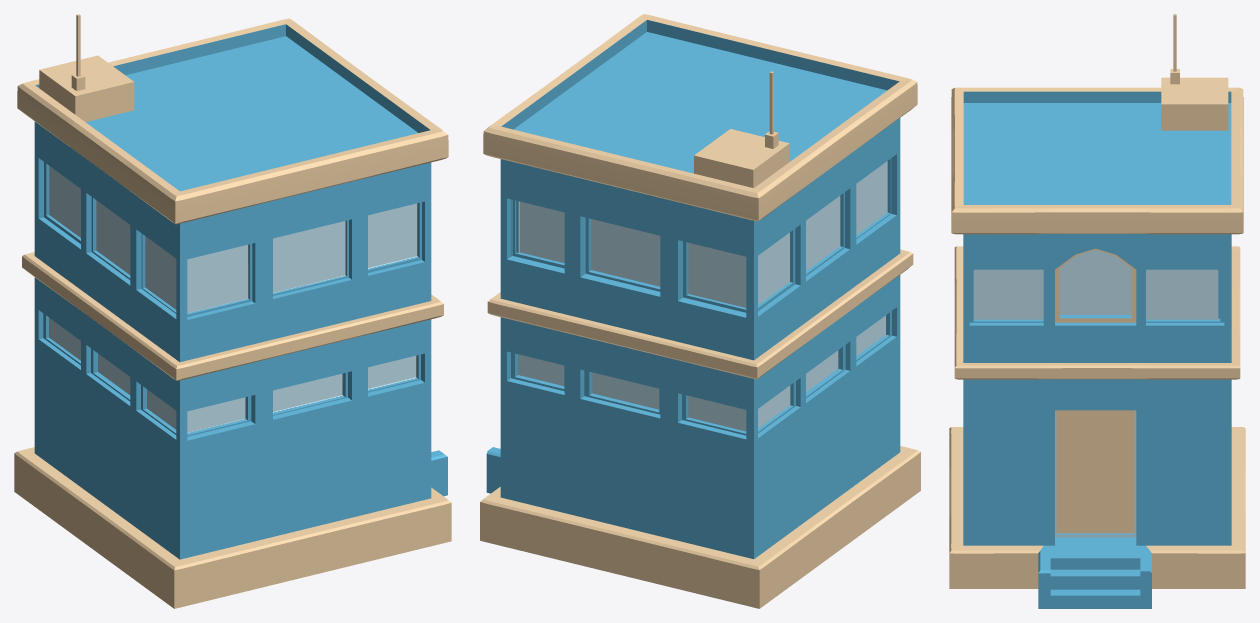
The model's file is exterior_building05_obj_01.fbx.
3 views of the same model, side by side, from view 1: azimuth 30°, elevation 25°; view 2: azimuth 150°, elevation 25°; view 3: azimuth 270°, elevation 25° (orthographic). The views are drawn at different scales.
Visible parts, largest first — view 1: Building01; view 2: Building01; view 3: Building01.
Part boxes in pixels (bbox=[...]): Building01: bbox=[14, 14, 451, 608]; Building01: bbox=[480, 14, 920, 608]; Building01: bbox=[949, 14, 1245, 608].
Bounding box in the file's own units: 15.35 × 22.74 × 13.24.
1 material, 1 textured.
